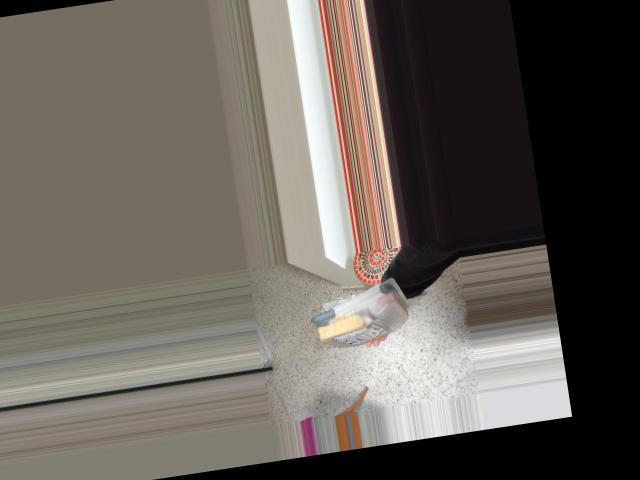cheese: (302, 268, 411, 352)
